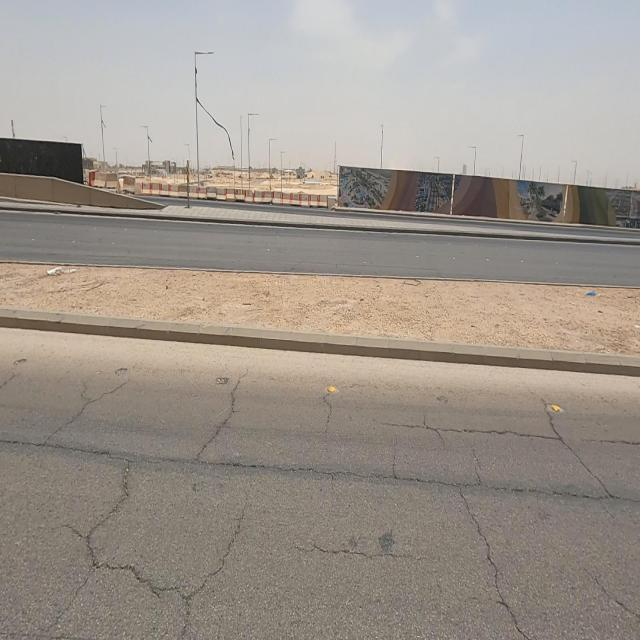debris: (20, 228, 93, 314)
